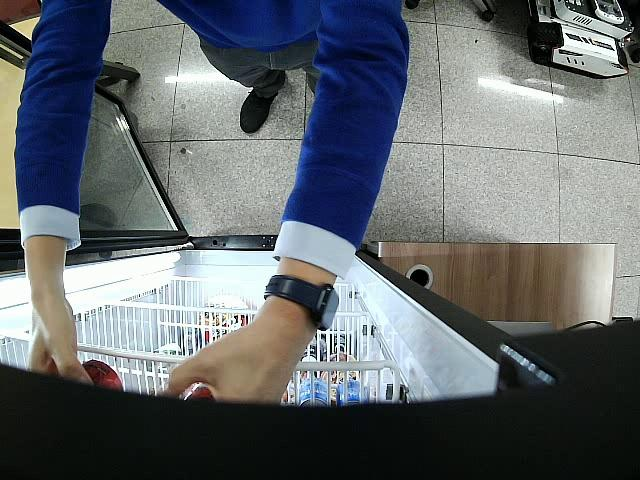00_hand: (156, 306, 302, 405), (27, 291, 93, 384)
